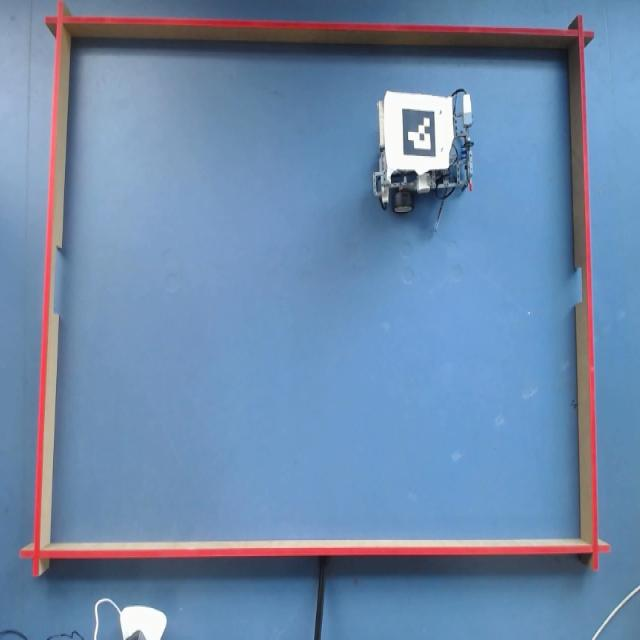ev3: (372, 89, 473, 217)
